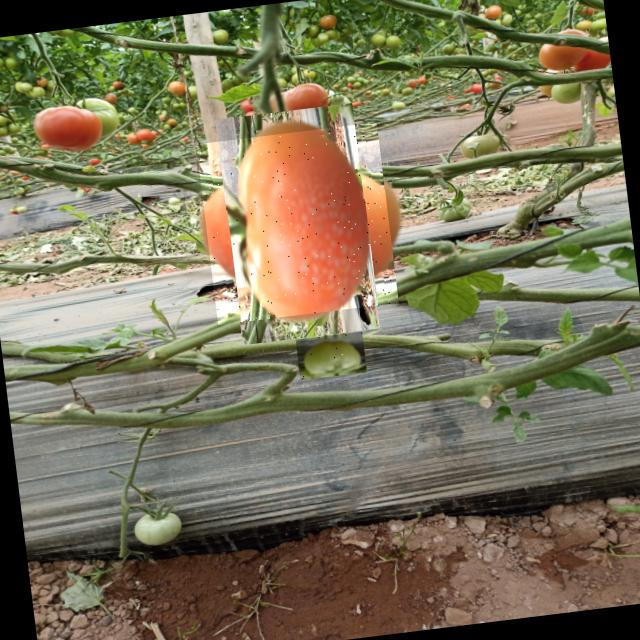Ripe Tomato: (195, 122, 398, 324)
Unripe Tomato: (296, 331, 366, 380)
